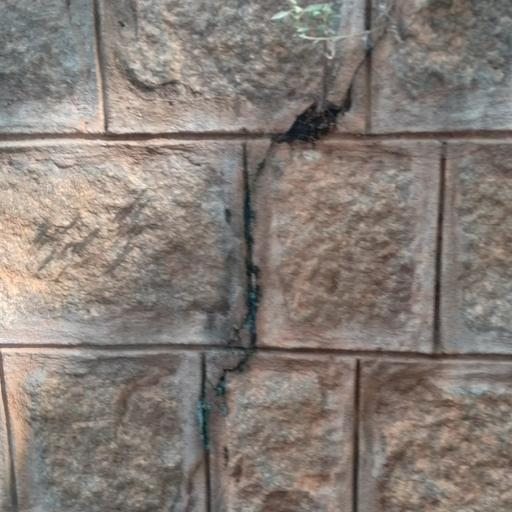major_crack: (185, 0, 402, 464)
